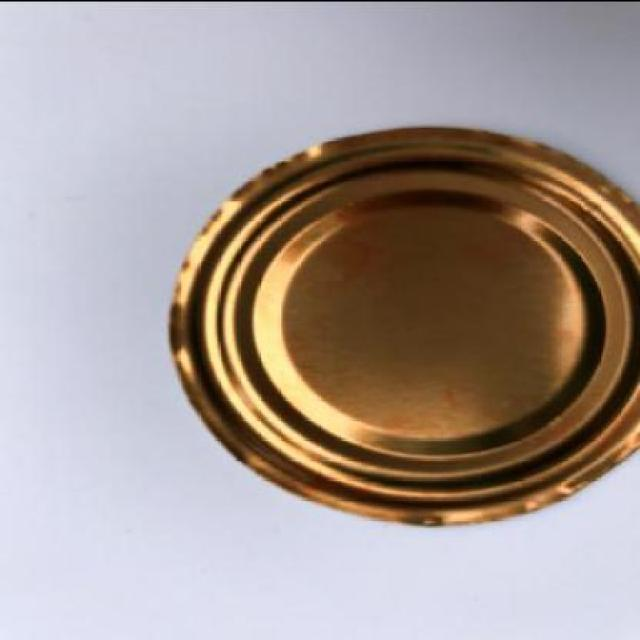METAL: (167, 125, 638, 530)
